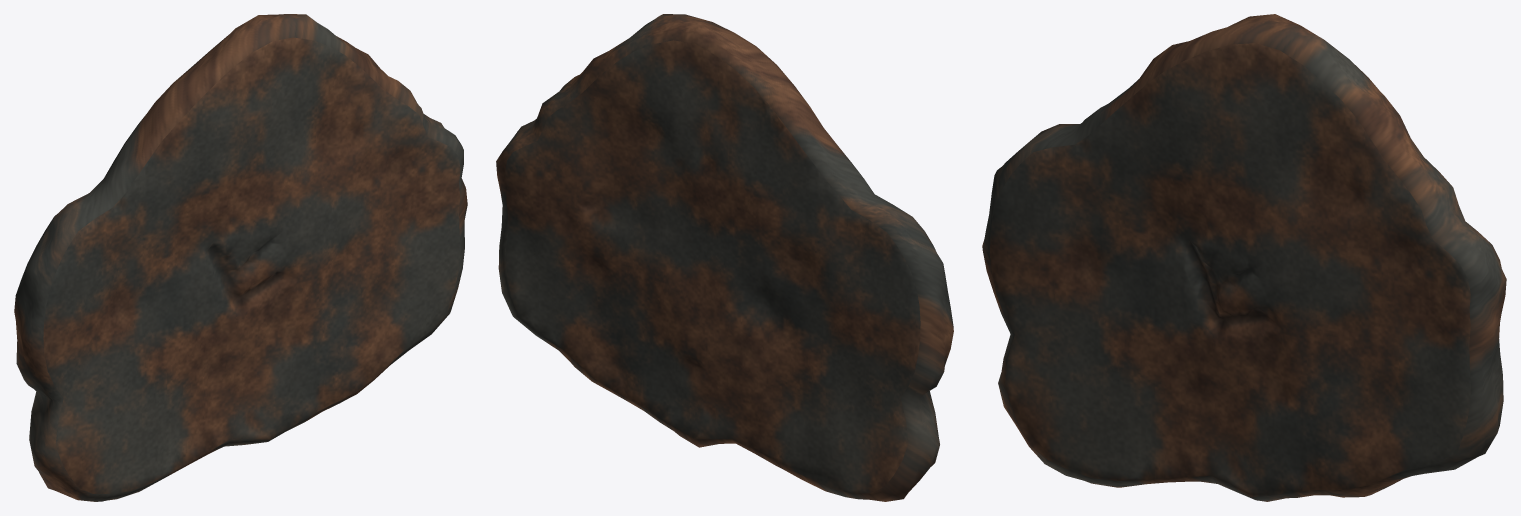
Rendered from coin_demon_scrap_iron.glb.
The picture shows the model from 3 angles, left to right: view 1: azimuth 30°, elevation 25°; view 2: azimuth 150°, elevation 25°; view 3: azimuth 330°, elevation 25°; orthographic projection. The views are drawn at different scales.
Parts seen in each view (by area): view 1: Scrap iron; view 2: Scrap iron; view 3: Scrap iron.
Boxes of the visible parts, box(x1,y1,x2,y2) form: Scrap iron: box(14, 14, 467, 501); Scrap iron: box(496, 14, 953, 501); Scrap iron: box(982, 14, 1506, 501).
Bounding box in the file's own units: 0.7635 × 0.7219 × 0.0829.
1 material, 1 textured.
